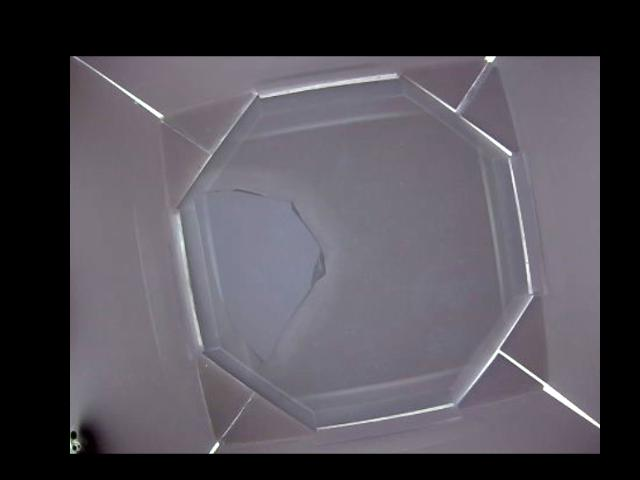China: (207, 185, 325, 365)
